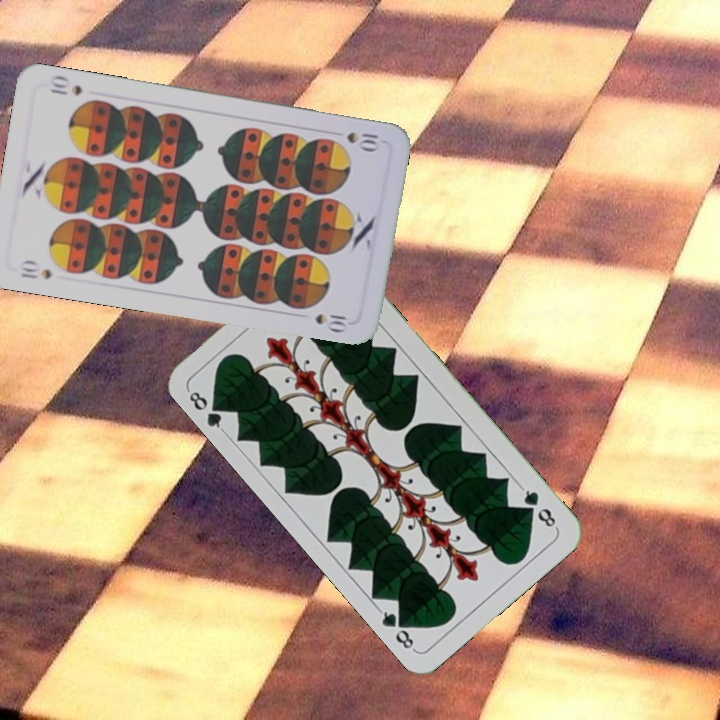G8: (184, 386, 229, 435), (516, 483, 560, 531)
S10: (16, 256, 54, 282), (343, 128, 381, 152)
